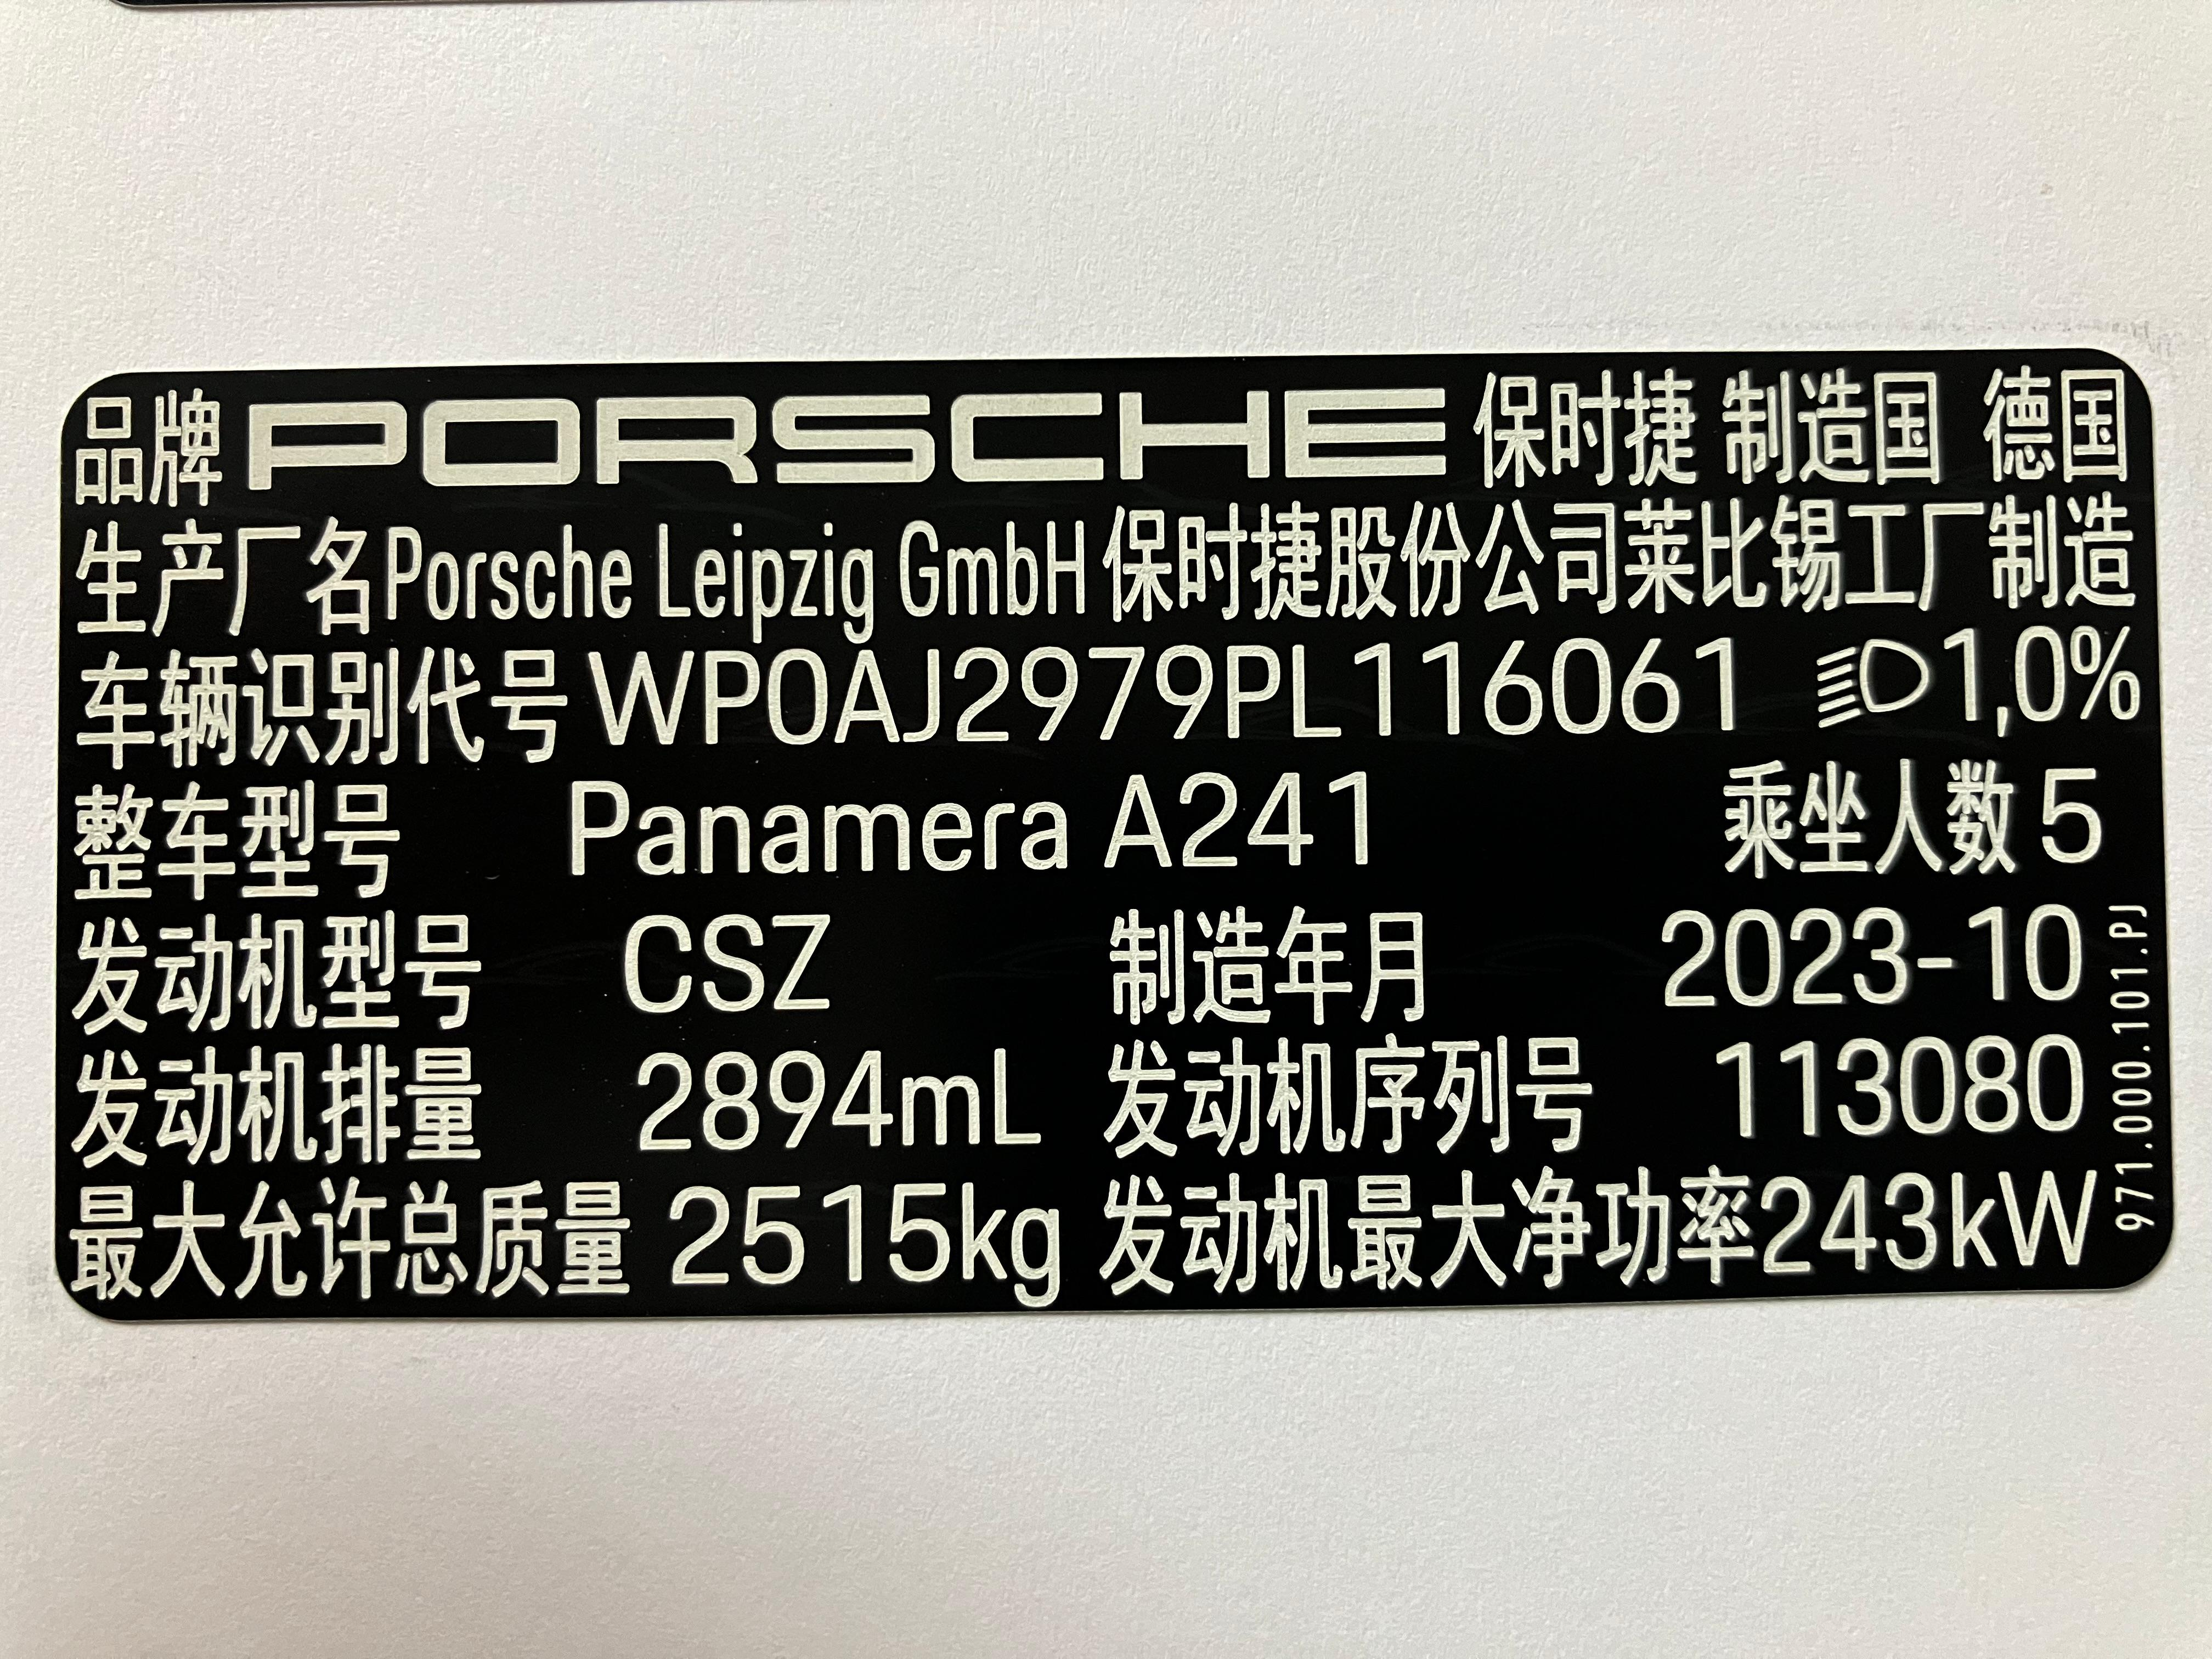Typlabel-China: (56, 349, 2174, 1319)
